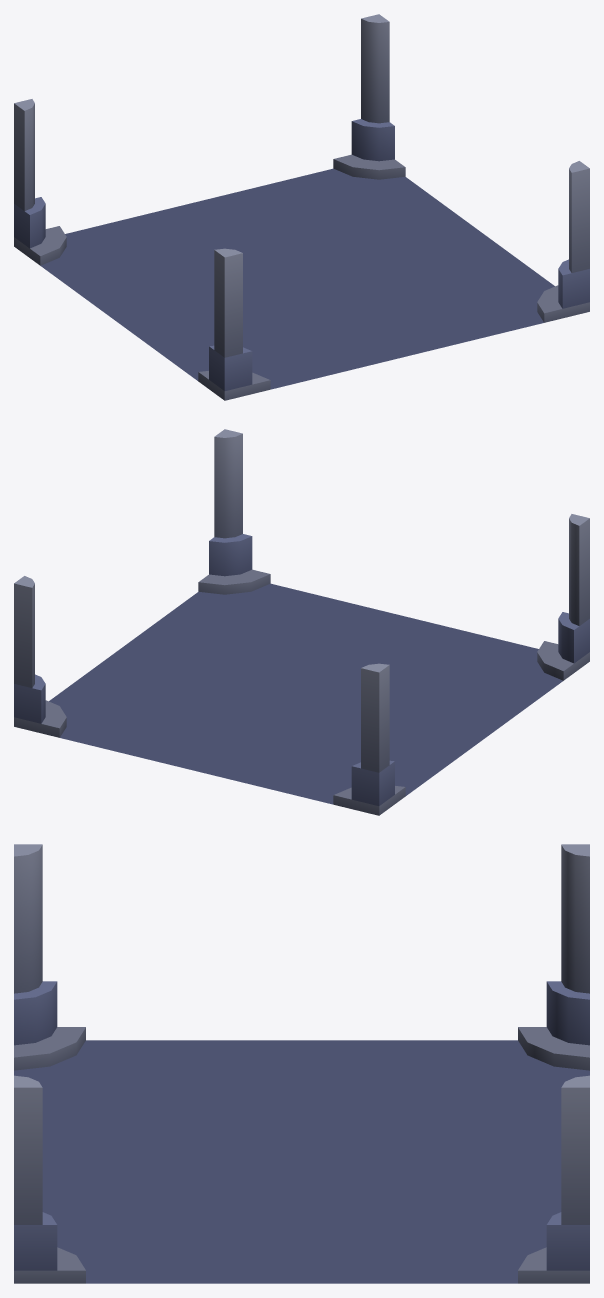
The model's file is corridor-wide-intersection.gltf.
3 renders of one model, top to bottom at view 1: azimuth 30°, elevation 25°; view 2: azimuth 150°, elevation 25°; view 3: azimuth 270°, elevation 25°, orthographic. The views are drawn at different scales.
Visible parts, largest first — view 1: corridor-wide-intersection; view 2: corridor-wide-intersection; view 3: corridor-wide-intersection.
Boxes of the visible parts, bbox=[...] form: corridor-wide-intersection: bbox=[14, 14, 589, 400]; corridor-wide-intersection: bbox=[14, 429, 589, 815]; corridor-wide-intersection: bbox=[14, 844, 589, 1283].
Bounding box in the file's own units: 8 × 3 × 8.
Materials: 1 (1 with a texture image).
